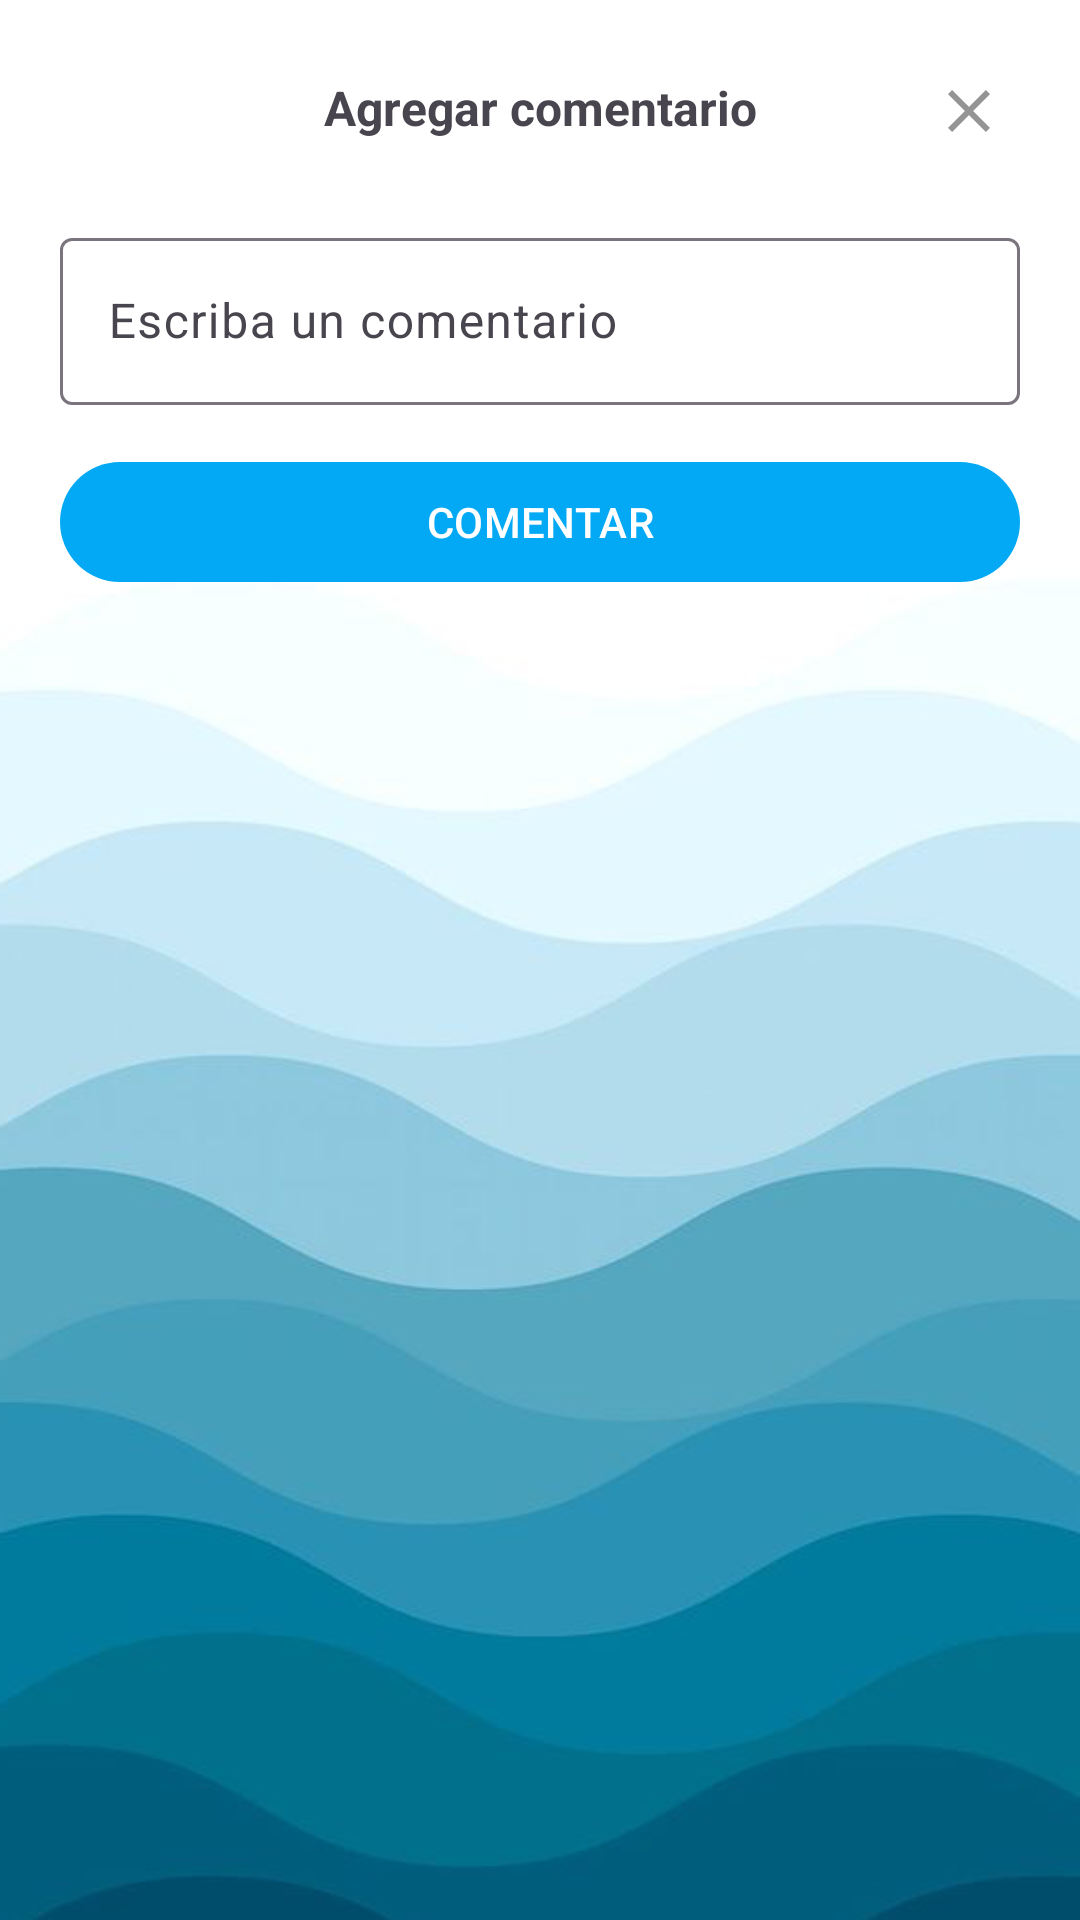

Named icons in this screenshot (1080 × 1920) and their bounding boxes, (x1, y1, x2, y2):
cerrar: (948, 90, 990, 132)
